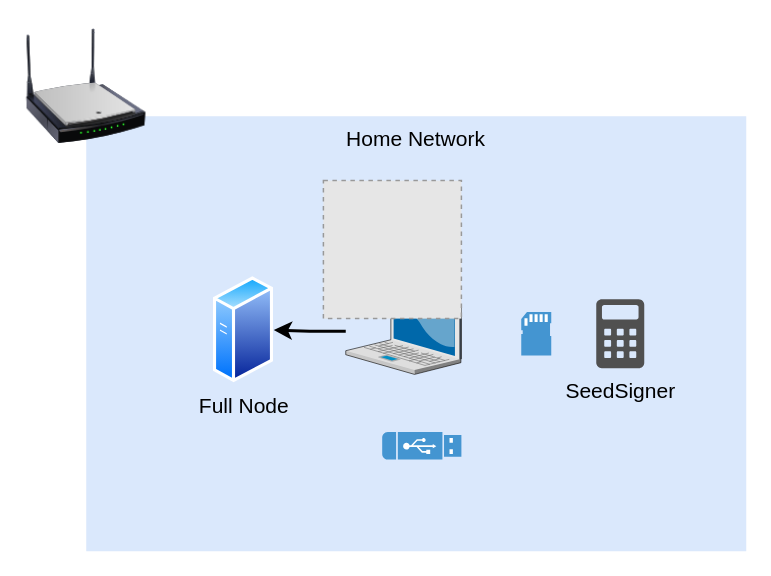
The diagram is 771 pixels wide and 576 high, and some of its shapes have lost their labels. Grey dashed boxes stand in for pictures. Each missing label, with the box of its shape:
Tails OS w/xpub: (381, 431, 461, 459)
txn-manager: (345, 287, 461, 374)
